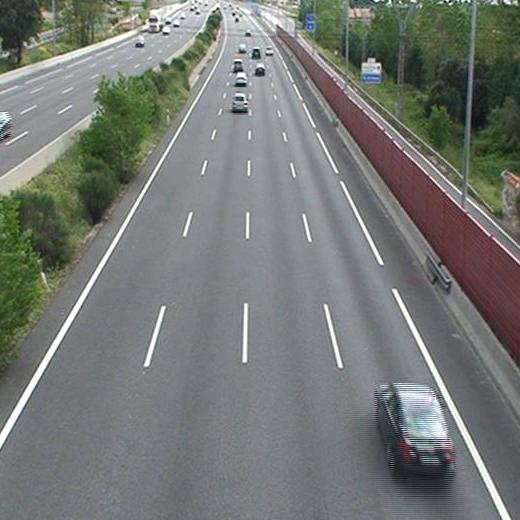car: (377, 385, 453, 471), (232, 93, 248, 111), (255, 63, 266, 74), (264, 45, 274, 56), (232, 60, 242, 71), (236, 74, 246, 85), (251, 48, 261, 58), (237, 45, 247, 53)
